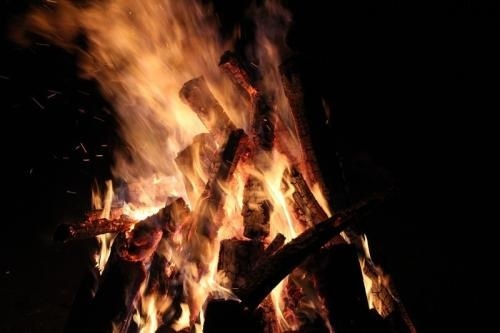fire: (91, 16, 329, 330), (357, 229, 390, 316)
